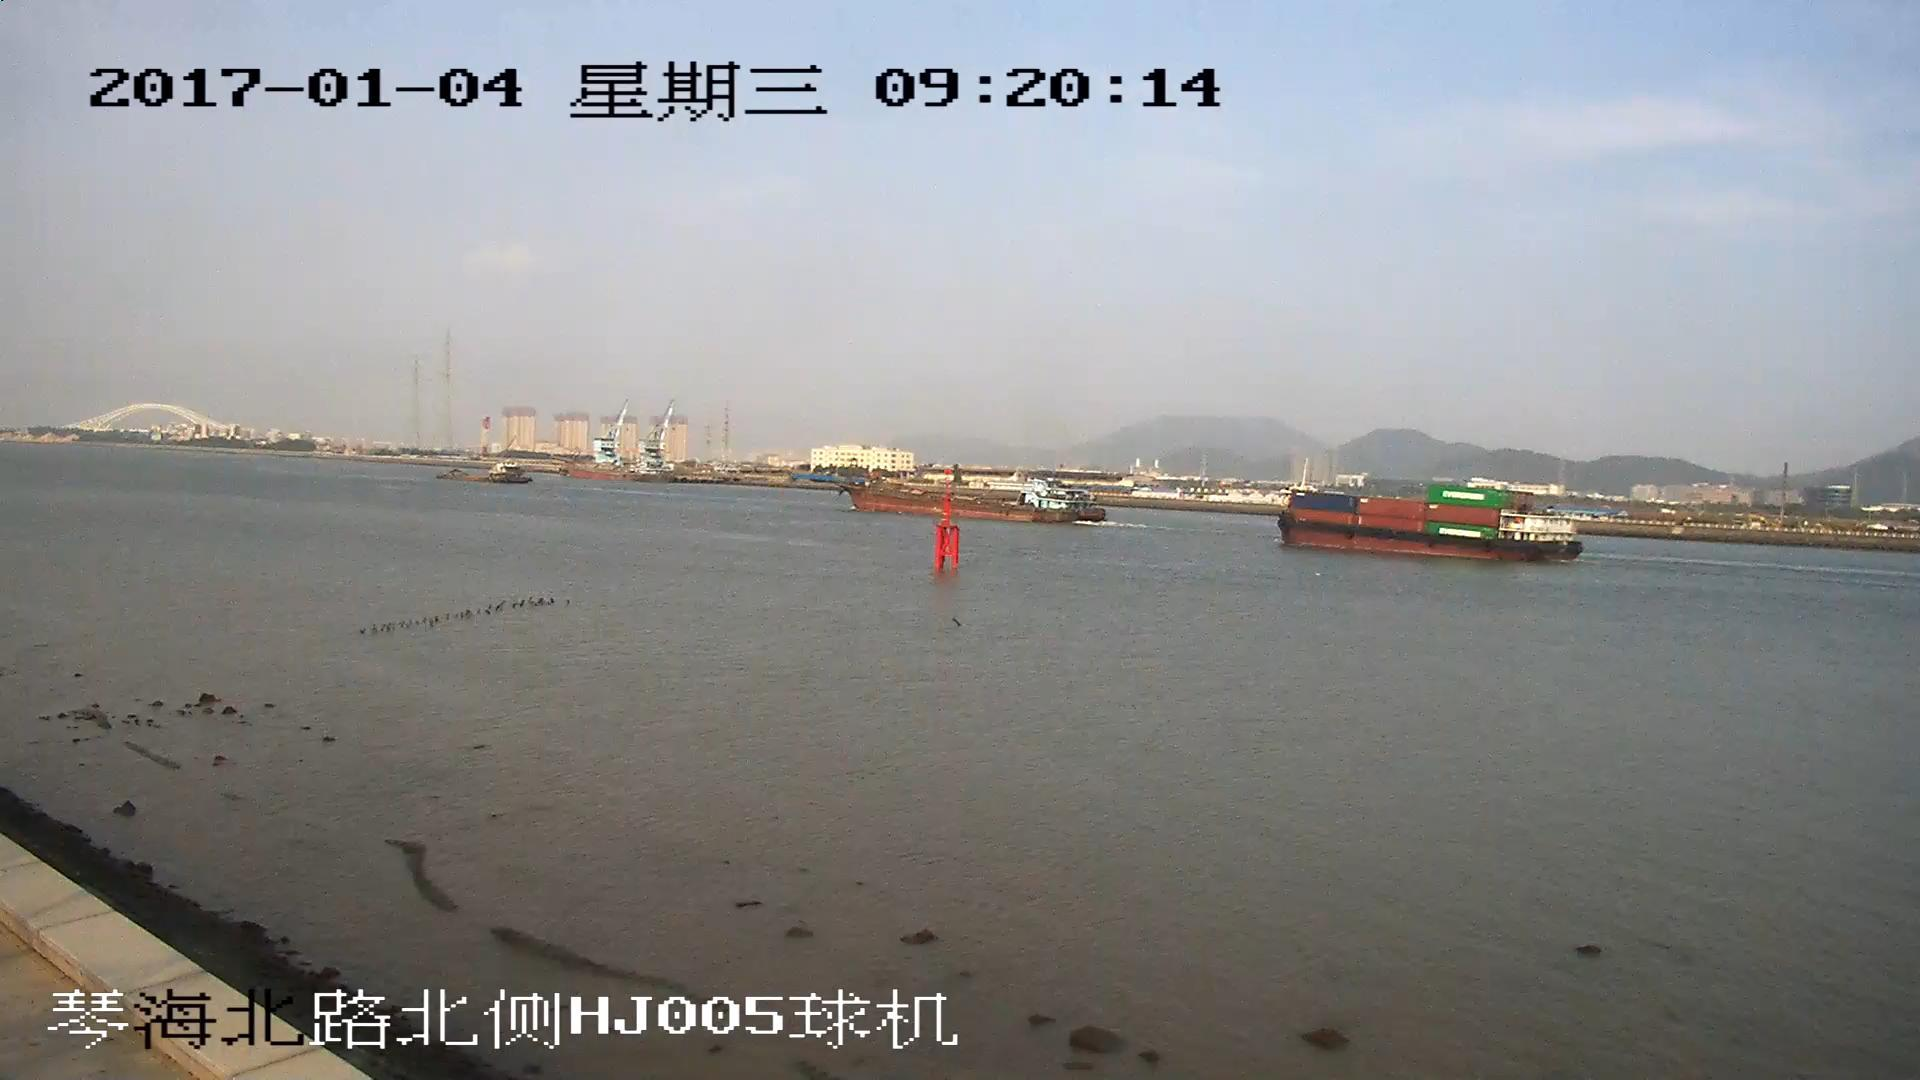Ship: (1276, 491, 1585, 564), (814, 473, 1110, 522)
